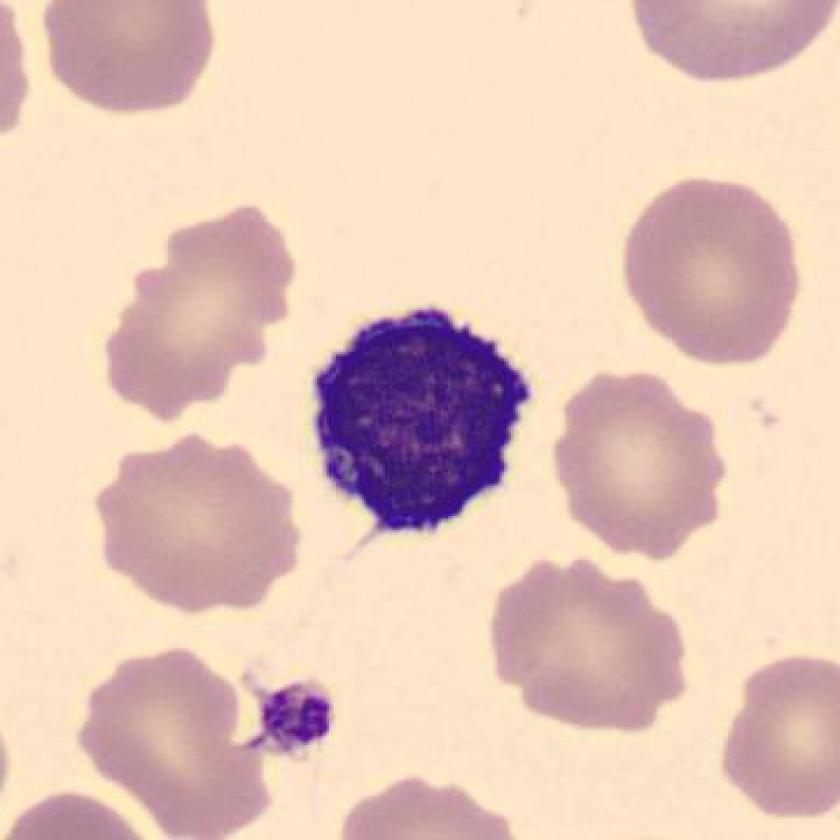lymphocyte: (297, 293, 545, 554)
